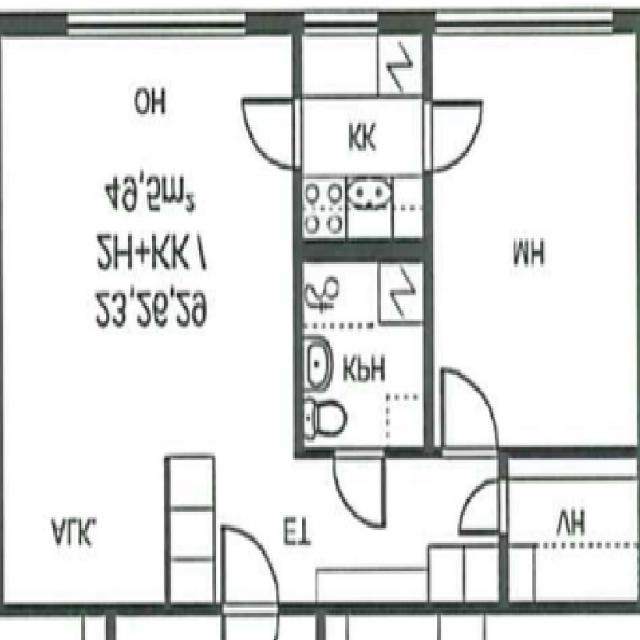door: (222, 524, 278, 615), (442, 367, 498, 457), (425, 100, 487, 172), (243, 99, 303, 169), (334, 445, 384, 527), (458, 478, 510, 536)
